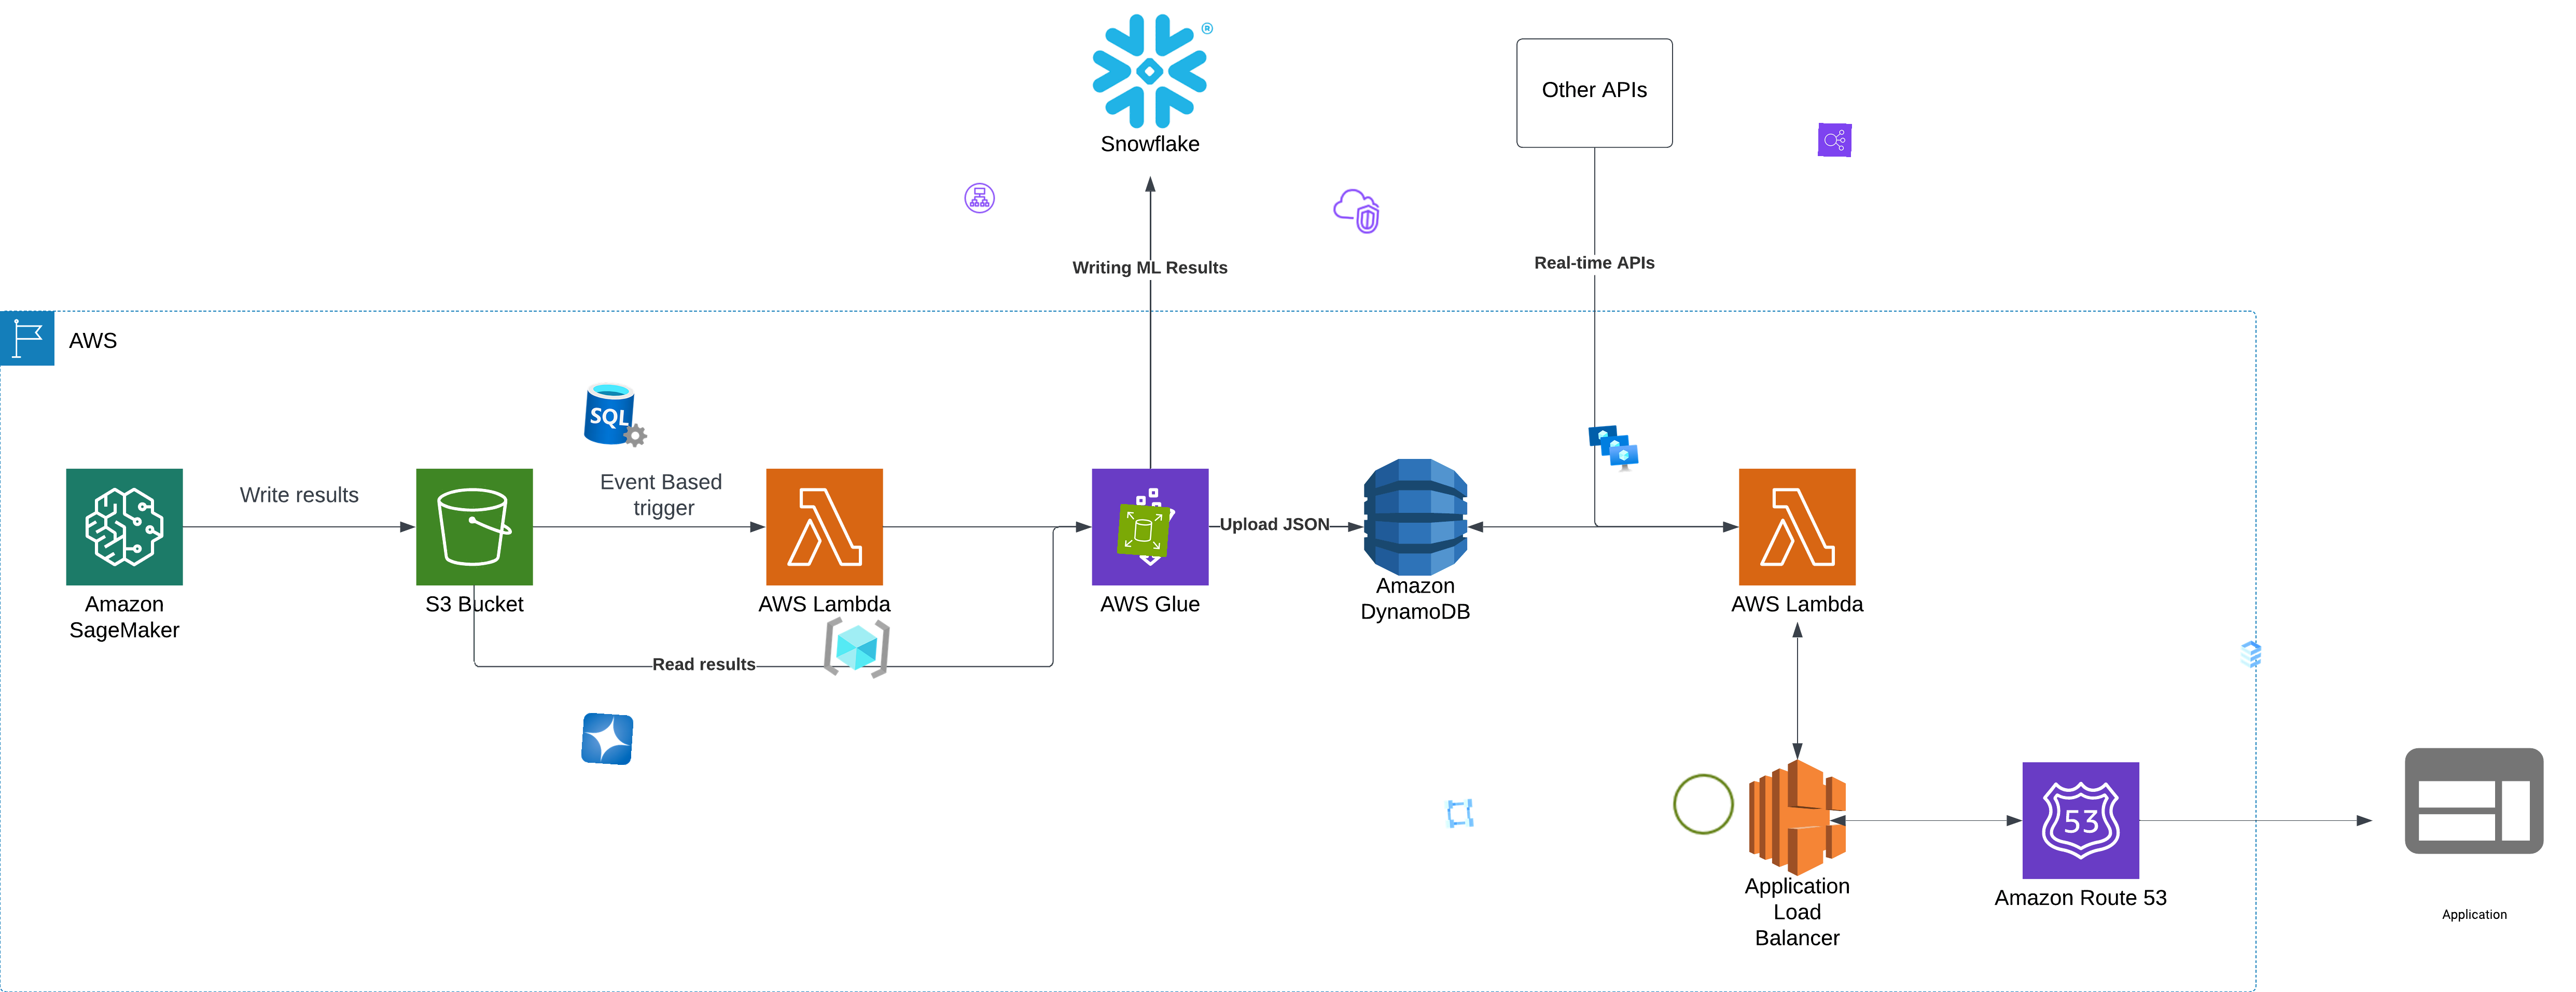aws_amazon_elastic_block_store: (1117, 504, 1170, 557)
aws_elastic_load_balancing: (1817, 123, 1851, 158)
aws_elastic_load_balancing_application_load_balancer: (963, 181, 997, 215)
aws_simple_storage_service_object: (1669, 770, 1738, 839)
aws_vpc_virtual_private_cloud_vpc: (1329, 184, 1383, 238)
azure_openai: (580, 713, 634, 765)
azure_resource_groups: (821, 613, 892, 683)
azure_sql_server: (582, 378, 652, 450)
azure_vm_scale_sets: (1585, 420, 1640, 475)
gcp_cloud_sql: (2233, 637, 2269, 672)
gcp_virtual_private_cloud: (1441, 795, 1477, 831)
